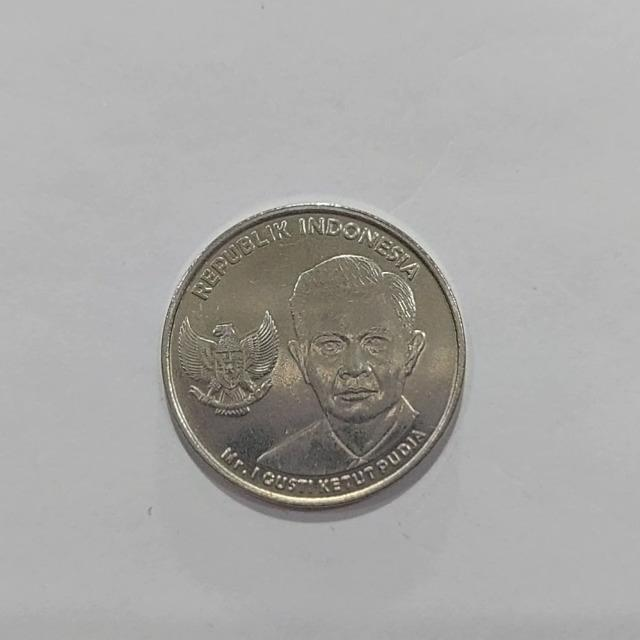Rp100: (159, 200, 468, 512), (250, 250, 430, 480), (173, 308, 281, 417)
